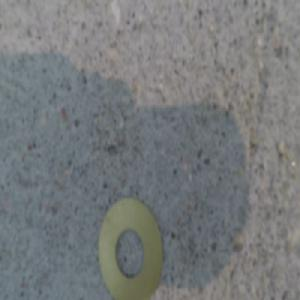Washer: (96, 193, 164, 299)
